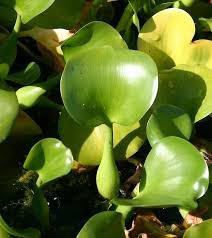water_hyacinth: (0, 0, 212, 238)
